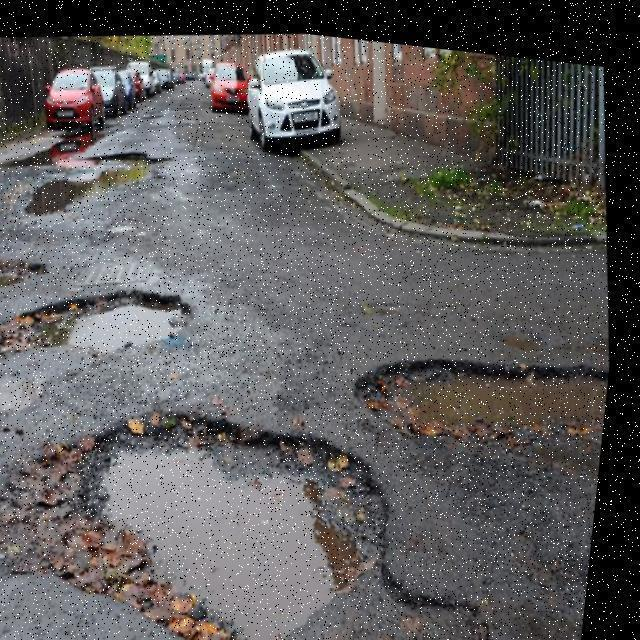Pothole: (0, 405, 400, 640), (353, 356, 607, 481), (0, 286, 196, 359), (4, 151, 173, 217)
